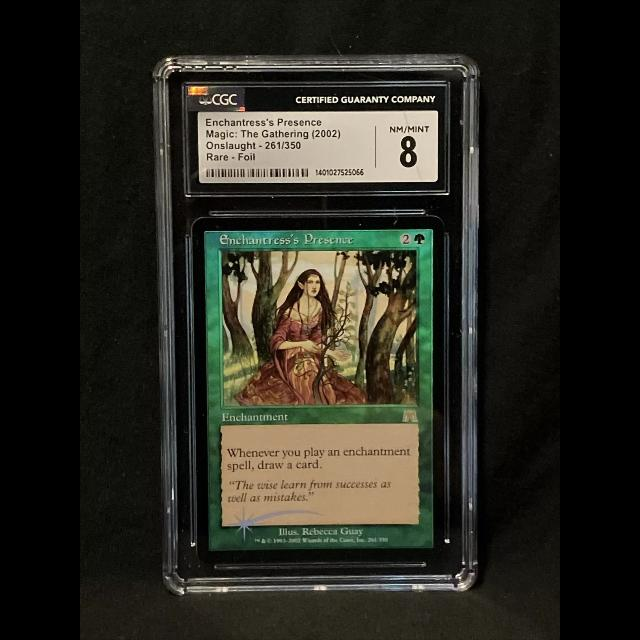card: (190, 215, 445, 564)
cgc_label: (185, 85, 447, 194)
cgc_slab: (152, 53, 479, 596)
